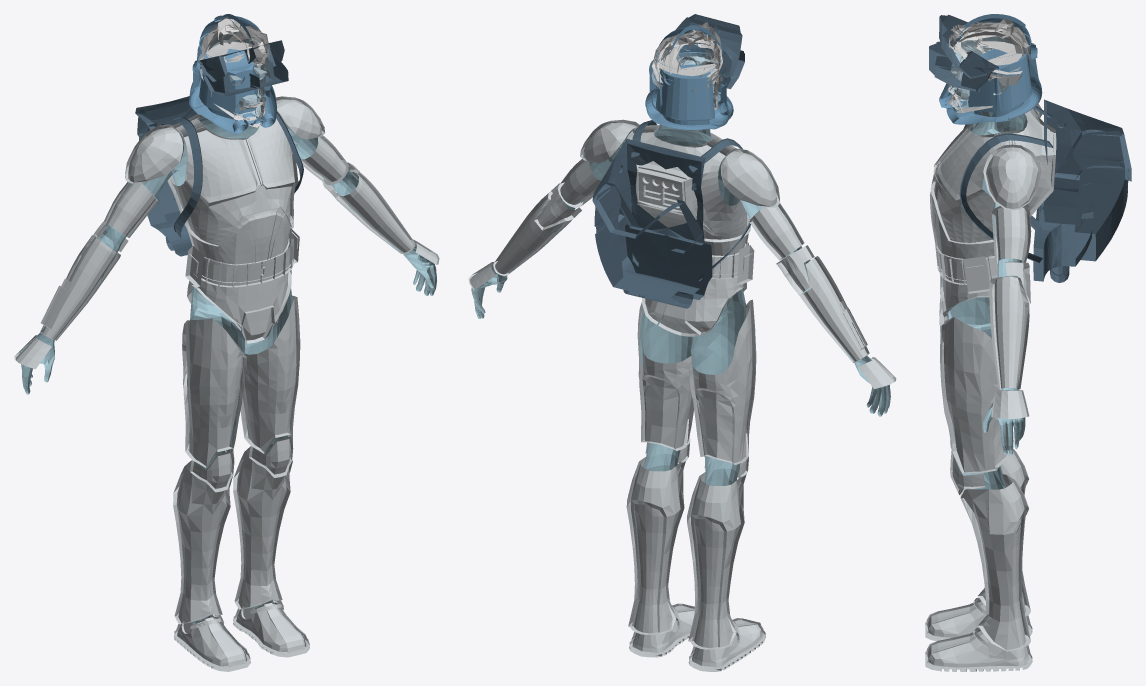
The model's file is trp.glb.
3 views of the same model, side by side, from view 1: azimuth 30°, elevation 25°; view 2: azimuth 150°, elevation 25°; view 3: azimuth 270°, elevation 25° (orthographic).
Parts seen in each view (by area): view 1: bg_01_armor__option_00_clone_armor.smd__mesh_00, bg_00_body__option_00_body.smd__mesh_00, bg_06_Backpack__option_01_backpack.smd__mesh_00, bg_02_helmet__option_00_helmet.smd__mesh_00, bg_05_helmet attachments__option_02_helmet_binos_down.smd__m, bg_02_helmet__option_01_new_head.smd__mesh_00, bg_05_helmet attachments__option_01_helmet_binos_up.smd__mes; view 2: bg_01_armor__option_00_clone_armor.smd__mesh_00, bg_06_Backpack__option_01_backpack.smd__mesh_00, bg_00_body__option_00_body.smd__mesh_00, bg_02_helmet__option_00_helmet.smd__mesh_00, bg_05_helmet attachments__option_01_helmet_binos_up.smd__mes, bg_03_Hair__option_15_hair_slick.smd__mesh_00, bg_02_helmet__option_01_new_head.smd__mesh_00; view 3: bg_01_armor__option_00_clone_armor.smd__mesh_00, bg_06_Backpack__option_01_backpack.smd__mesh_00, bg_02_helmet__option_00_helmet.smd__mesh_00, bg_00_body__option_00_body.smd__mesh_00, bg_05_helmet attachments__option_01_helmet_binos_up.smd__mes, bg_05_helmet attachments__option_02_helmet_binos_down.smd__m, bg_02_helmet__option_01_new_head.smd__mesh_00, bg_03_Hair__option_15_hair_slick.smd__mesh_00, bg_03_Hair__option_11_hair_tail.smd__mesh_00.
Part boxes in pixels (x1,y1,x2,y2): bg_01_armor__option_00_clone_armor.smd__mesh_00: [14, 96, 439, 671]; bg_00_body__option_00_body.smd__mesh_00: [19, 111, 436, 623]; bg_06_Backpack__option_01_backpack.smd__mesh_00: [135, 96, 303, 256]; bg_02_helmet__option_00_helmet.smd__mesh_00: [189, 14, 276, 134]; bg_05_helmet attachments__option_02_helmet_binos_down.smd__m: [200, 56, 288, 96]; bg_02_helmet__option_01_new_head.smd__mesh_00: [199, 31, 270, 118]; bg_05_helmet attachments__option_01_helmet_binos_up.smd__mes: [197, 40, 284, 81]; bg_01_armor__option_00_clone_armor.smd__mesh_00: [468, 119, 896, 671]; bg_06_Backpack__option_01_backpack.smd__mesh_00: [592, 120, 750, 308]; bg_00_body__option_00_body.smd__mesh_00: [471, 125, 890, 485]; bg_02_helmet__option_00_helmet.smd__mesh_00: [645, 25, 733, 129]; bg_05_helmet attachments__option_01_helmet_binos_up.smd__mes: [676, 14, 742, 77]; bg_03_Hair__option_15_hair_slick.smd__mesh_00: [658, 33, 716, 76]; bg_02_helmet__option_01_new_head.smd__mesh_00: [651, 36, 722, 131]; bg_01_armor__option_00_clone_armor.smd__mesh_00: [925, 104, 1056, 671]; bg_06_Backpack__option_01_backpack.smd__mesh_00: [959, 99, 1131, 282]; bg_02_helmet__option_00_helmet.smd__mesh_00: [939, 14, 1042, 124]; bg_00_body__option_00_body.smd__mesh_00: [943, 111, 1027, 612]; bg_05_helmet attachments__option_01_helmet_binos_up.smd__mes: [939, 14, 998, 78]; bg_05_helmet attachments__option_02_helmet_binos_down.smd__m: [929, 41, 994, 91]; bg_02_helmet__option_01_new_head.smd__mesh_00: [950, 29, 1021, 108]; bg_03_Hair__option_15_hair_slick.smd__mesh_00: [966, 26, 1022, 65]; bg_03_Hair__option_11_hair_tail.smd__mesh_00: [967, 19, 1021, 48].
Bounding box in the file's own units: 52.96 × 74.43 × 22.08.
